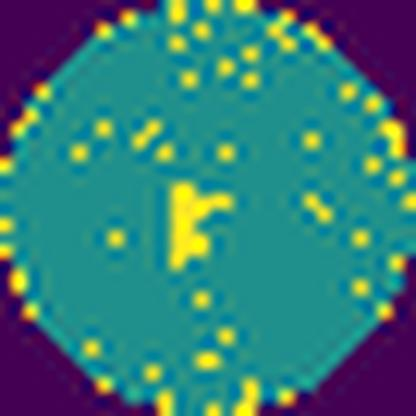Center: (172, 173, 239, 274)
